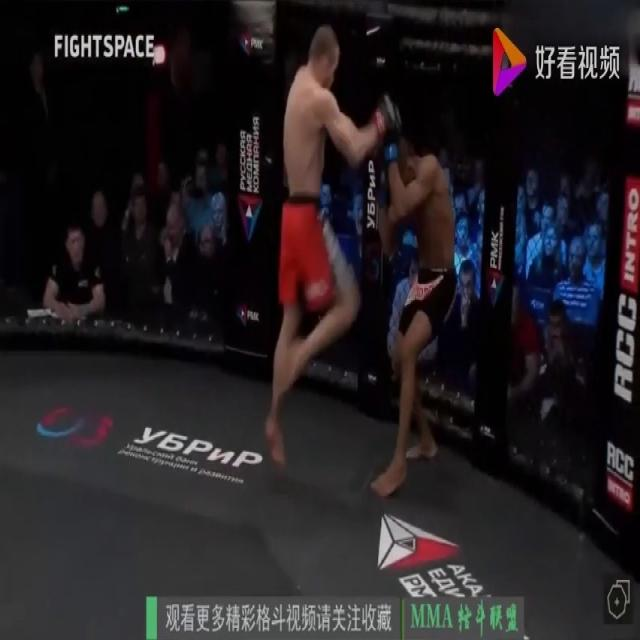fight: (244, 12, 473, 504)
